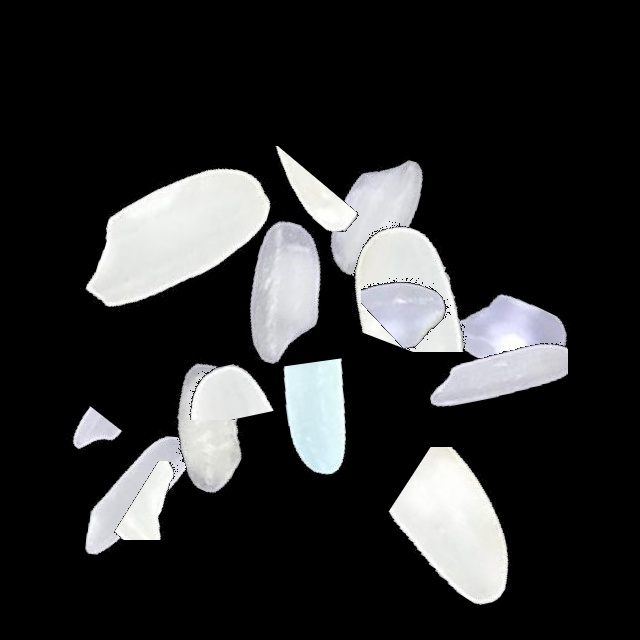Broken: (351, 447, 601, 616), (365, 292, 615, 452), (305, 194, 555, 352), (414, 203, 568, 453), (248, 309, 393, 559), (361, 150, 500, 400), (30, 329, 123, 579), (138, 146, 388, 232), (101, 339, 351, 420), (55, 461, 305, 540)
Full: (13, 372, 263, 622), (252, 90, 502, 340), (81, 303, 331, 553), (161, 170, 411, 420), (56, 114, 306, 364)
